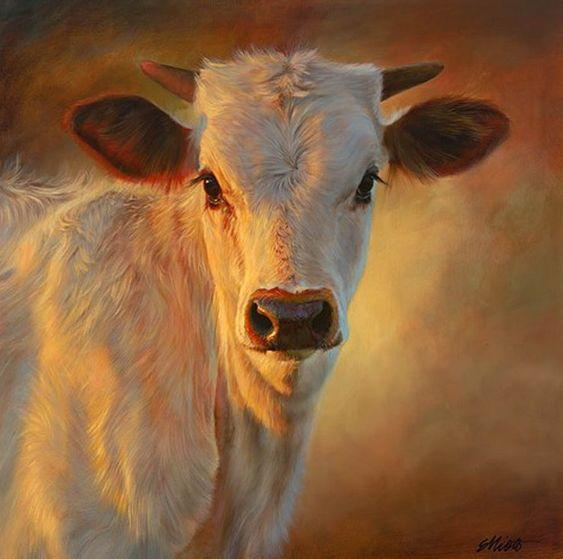cow: (58, 25, 497, 475)
